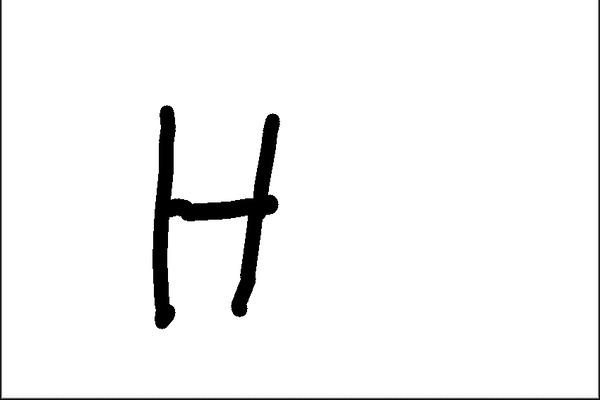H: (146, 99, 281, 329)
